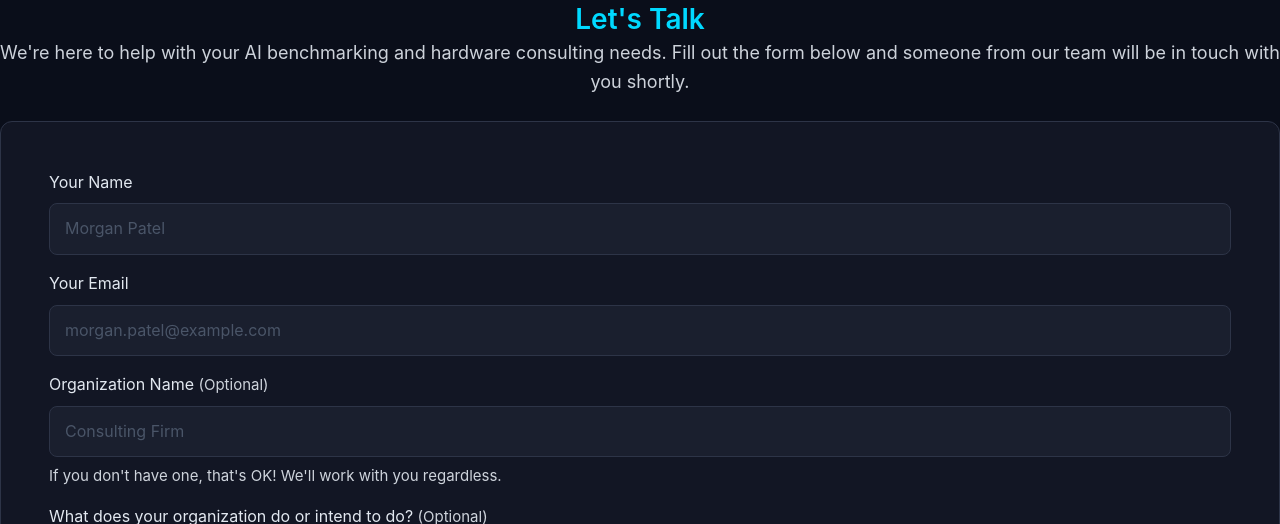
ContactForm › displays validation error when email format is invalid
The image size is (1280, 524).
Type "John Doe" into the field named "name".
click(640, 229); type("John Doe")  # box [49,203,1231,255]
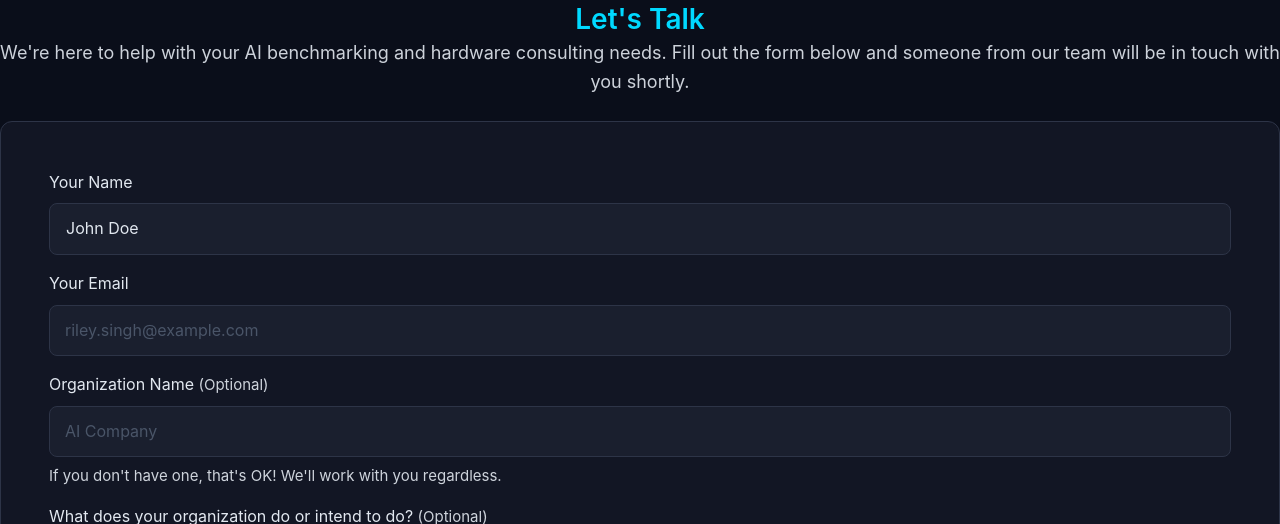
Type "invalid-email" into the field named "email".
click(640, 330); type("invalid-email")  # box [49,305,1231,356]
(page scrolled)
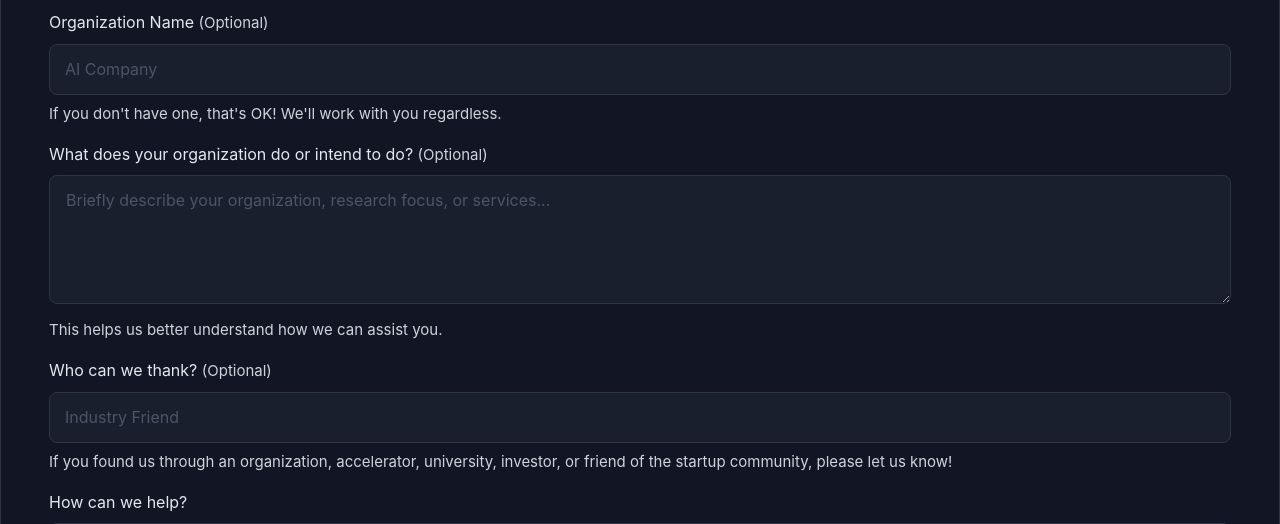
Submit the form
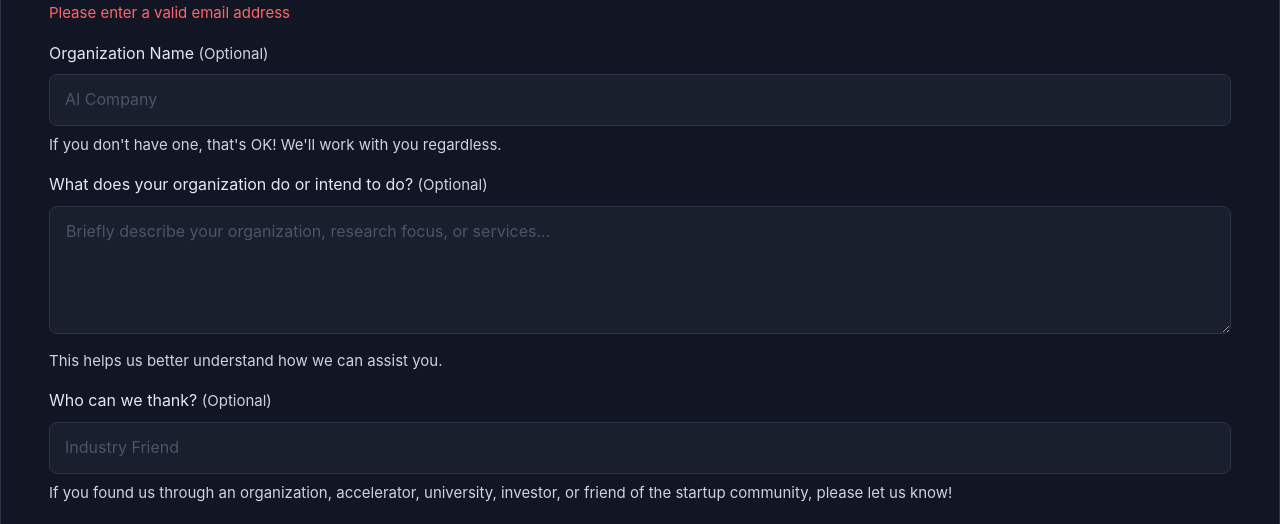
Now the text "Please enter a valid email address" is shown, box [49,3,290,22]
